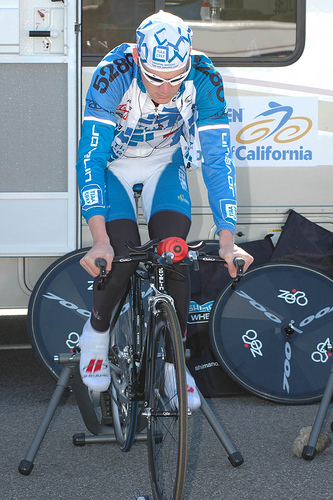without_mask: (129, 43, 193, 106)
